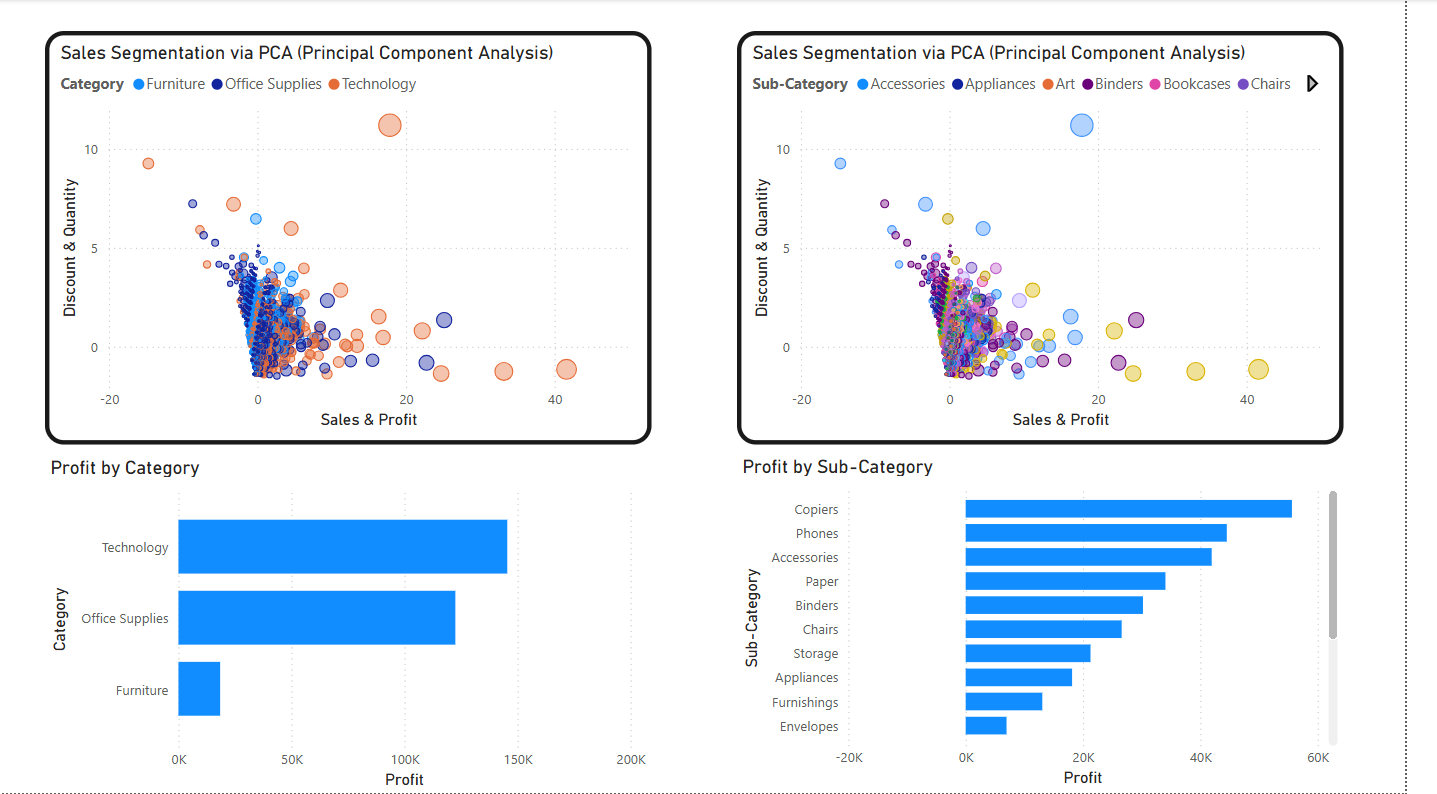

What the dashboard file says about the page in this screenshot:
{"tool":"powerbi","page":{"name":"Page 1","canvas":[1280,720],"ordinal":0},"visuals":[{"type":"scatterChart","title":"Sales Segmentation via PCA (Principal Component Analysis)","fields":{"X":["superstore_sales_with_pca.PC1"],"Y":["superstore_sales_with_pca.PC2"],"Series":["superstore_sales_with_pca.Category"],"Size":["superstore_sales_with_pca.Sales_Size"]},"box":[0,0,560,360],"z":0},{"type":"clusteredBarChart","fields":{"Category":["superstore_sales_with_pca.Category"],"Y":["Sum(superstore_sales_with_pca.Profit)"]},"box":[96,400,336,168],"z":1000},{"type":"scatterChart","title":"Sales Segmentation via PCA (Principal Component Analysis)","fields":{"X":["superstore_sales_with_pca.PC1"],"Y":["superstore_sales_with_pca.PC2"],"Size":["superstore_sales_with_pca.Sales_Size"],"Series":["superstore_sales_with_pca.Sub-Category"]},"box":[728,0,552,360],"z":2000},{"type":"clusteredBarChart","fields":{"Category":["superstore_sales_with_pca.Sub-Category"],"Y":["Sum(superstore_sales_with_pca.Profit)"]},"box":[824,384,440,312],"z":3000},{"type":"advancedSlicerVisual","fields":{"Values":["superstore_sales_with_pca.Region"]},"box":[0,640,352,80],"z":4000},{"type":"textbox","box":[496,376,296,232],"z":4001}]}

Visuals, with their boxes in screenshot pixels (x1, y1, x2, y2), scaled from the page's 1280x720 canvas onto the 1437x794 screenshot:
"Sales Segmentation via PCA (Principal Component Analysis)" scatterChart: [left=0, top=0, right=629, bottom=397]
clusteredBarChart - superstore_sales_with_pca.Category x Sum(superstore_sales_with_pca.Profit): [left=108, top=441, right=485, bottom=626]
"Sales Segmentation via PCA (Principal Component Analysis)" scatterChart: [left=817, top=0, right=1436, bottom=397]
clusteredBarChart - superstore_sales_with_pca.Sub-Category x Sum(superstore_sales_with_pca.Profit): [left=925, top=423, right=1419, bottom=768]
advancedSlicerVisual - superstore_sales_with_pca.Region: [left=0, top=706, right=395, bottom=793]
textbox: [left=557, top=415, right=889, bottom=670]
